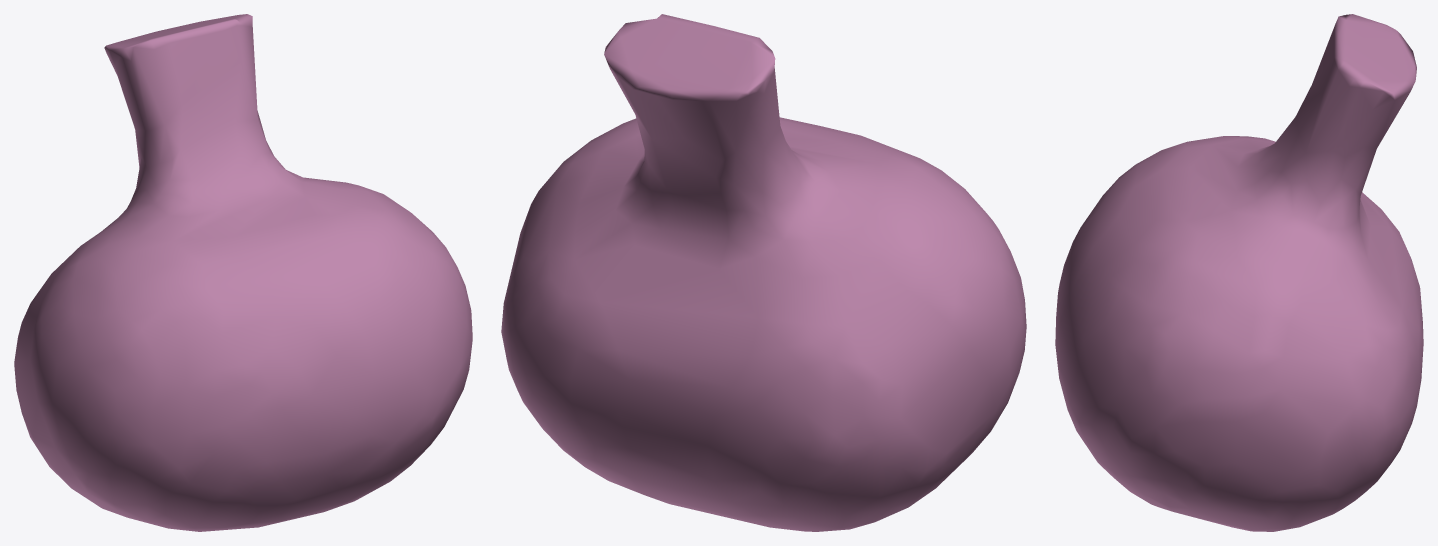
Rendered from hypophyse-bp.glb.
3 views of the same model, side by side, from view 1: azimuth 30°, elevation 25°; view 2: azimuth 150°, elevation 25°; view 3: azimuth 270°, elevation 25° (orthographic). The views are drawn at different scales.
Parts seen in each view (by area): view 1: FJ1796 Pituitary gland; view 2: FJ1796 Pituitary gland; view 3: FJ1796 Pituitary gland.
Part boxes in pixels (bbox=[...]): FJ1796 Pituitary gland: bbox=[14, 14, 472, 531]; FJ1796 Pituitary gland: bbox=[501, 14, 1026, 531]; FJ1796 Pituitary gland: bbox=[1055, 14, 1423, 531].
Size of the model in its own units: 3.23 by 3.4 by 2.48.
